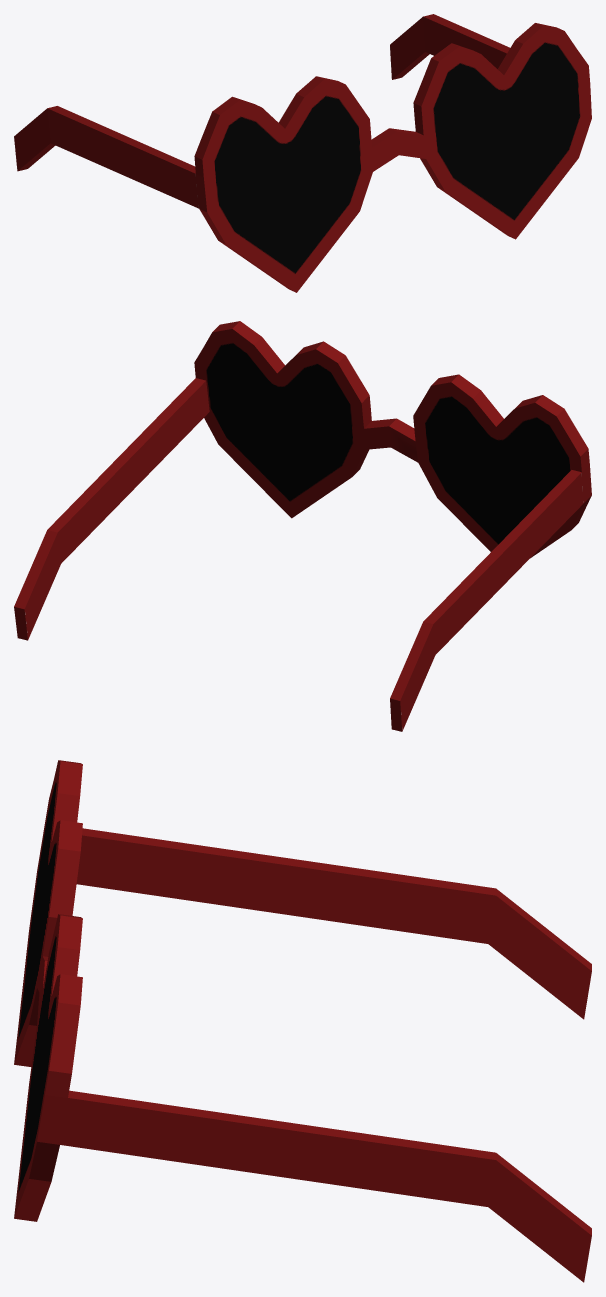
File: HeartGlasses_WorldItem.fbx
3 renders of one model, top to bottom at view 1: azimuth 30°, elevation 25°; view 2: azimuth 150°, elevation 25°; view 3: azimuth 270°, elevation 25°, orthographic. The views are drawn at different scales.
Parts seen in each view (by area): view 1: Cube.002_Cube.005; view 2: Cube.002_Cube.005; view 3: Cube.002_Cube.005.
Part boxes in pixels (left/top/right/bottom): Cube.002_Cube.005: left=14, top=14, right=591, bottom=292; Cube.002_Cube.005: left=14, top=321, right=591, bottom=731; Cube.002_Cube.005: left=14, top=760, right=591, bottom=1282.
Size of the model in its own units: 0.2337 by 0.1123 by 0.2102.
